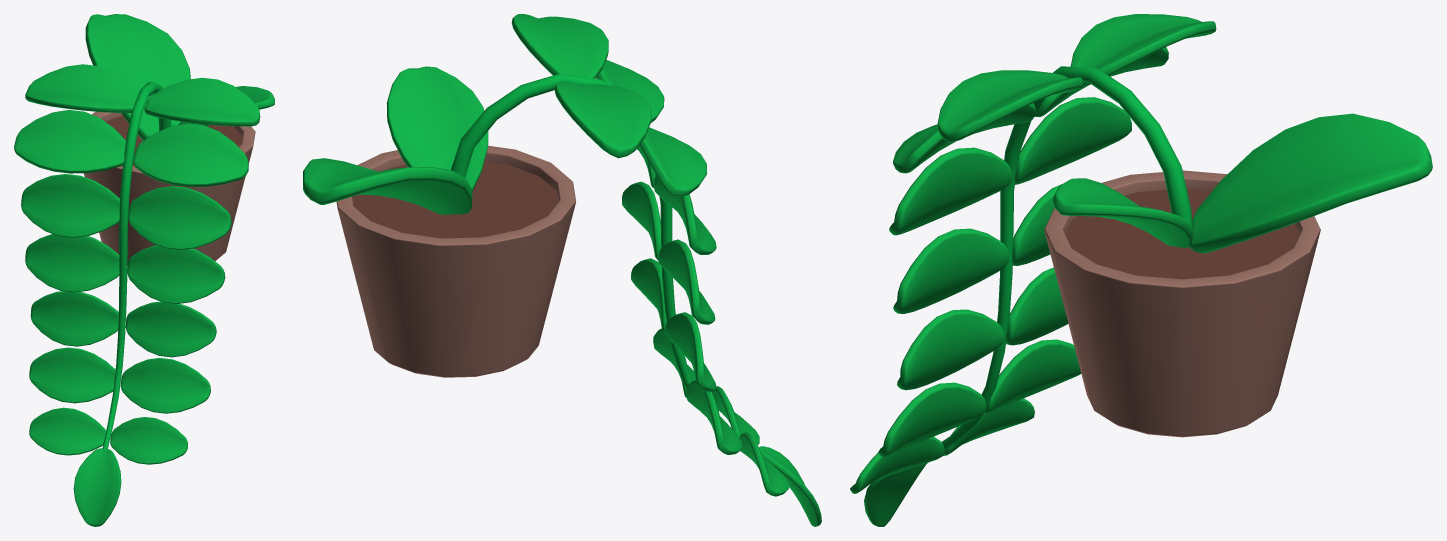
The model's file is Farm_6_Plant_2.glb.
The picture shows the model from 3 angles, left to right: view 1: azimuth 30°, elevation 25°; view 2: azimuth 150°, elevation 25°; view 3: azimuth 270°, elevation 25°; orthographic projection. The views are drawn at different scales.
Visible parts, largest first — view 1: Farm_6_Plant_2; view 2: Farm_6_Plant_2; view 3: Farm_6_Plant_2.
Boxes of the visible parts, x1,y1,x2,y2 form: Farm_6_Plant_2: (14, 14, 274, 526); Farm_6_Plant_2: (303, 14, 821, 526); Farm_6_Plant_2: (850, 14, 1432, 526).
Size of the model in its own units: 1.08 by 1.43 by 1.34.
1 material, 1 textured.
